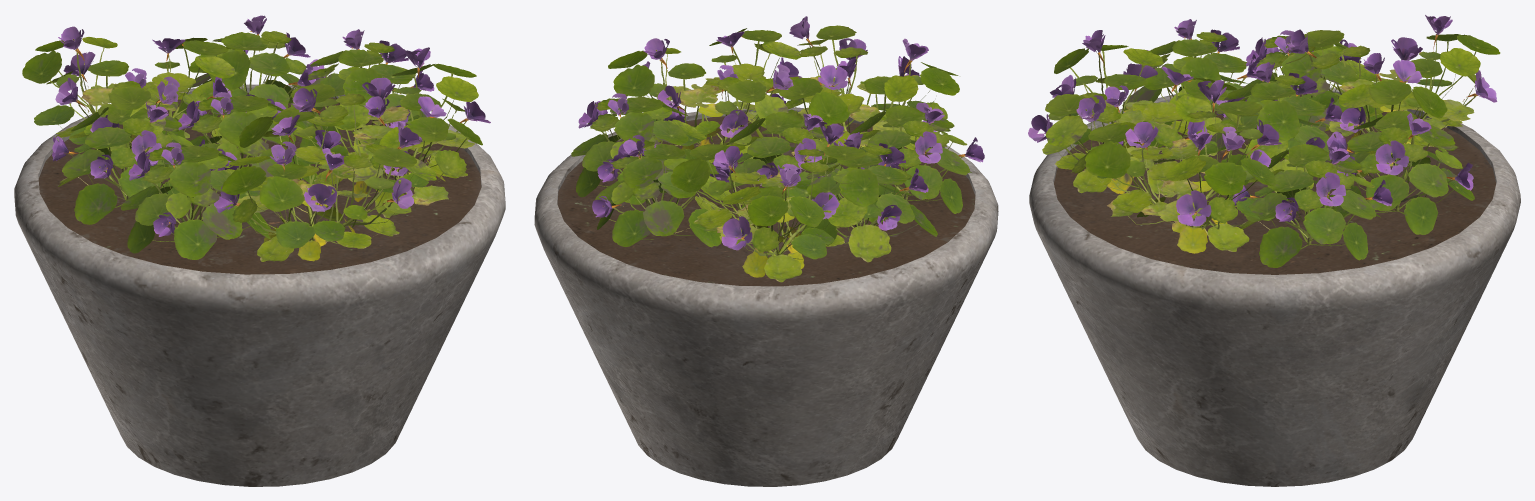
The model's file is SM_Flowerpot_03.fbx.
3 renders of one model, left to right at view 1: azimuth 30°, elevation 25°; view 2: azimuth 150°, elevation 25°; view 3: azimuth 270°, elevation 25°, orthographic. The views are drawn at different scales.
Parts seen in each view (by area): view 1: SM_Flowerpot_03_LOD0; view 2: SM_Flowerpot_03_LOD0; view 3: SM_Flowerpot_03_LOD0.
Boxes of the visible parts, x1,y1,x2,y2 form: SM_Flowerpot_03_LOD0: [14, 15, 505, 486]; SM_Flowerpot_03_LOD0: [534, 16, 998, 486]; SM_Flowerpot_03_LOD0: [1028, 15, 1520, 486].
Bounding box in the file's own units: 94.78 × 95.19 × 77.65.
